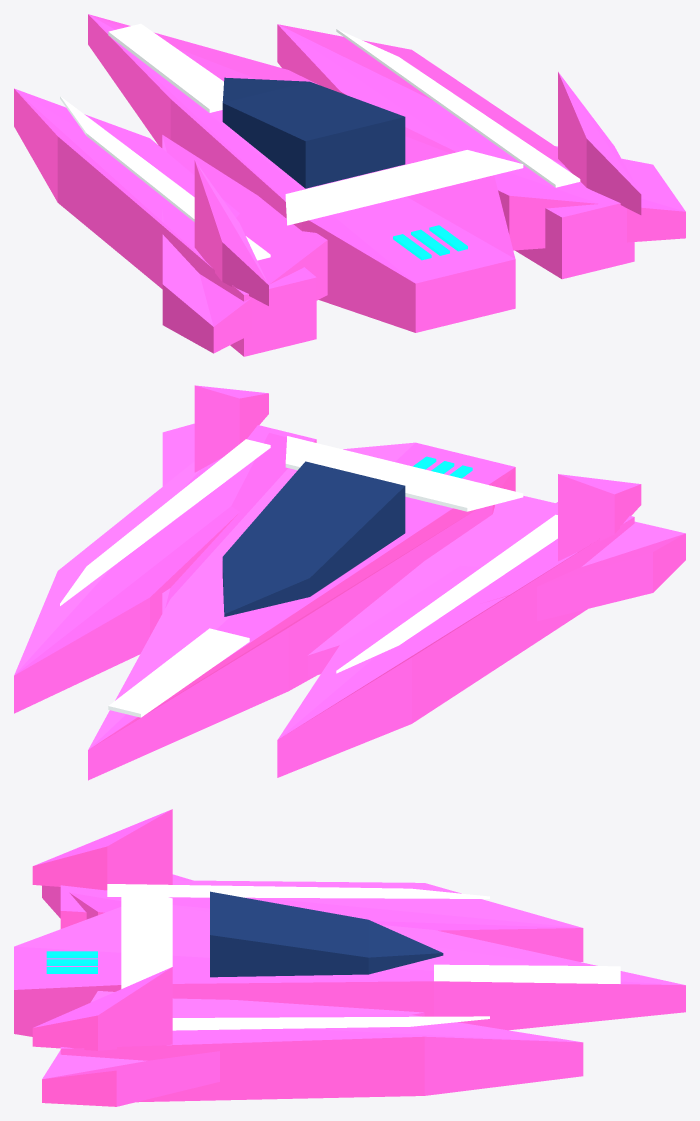
Rendered from hydrofoil-2.glb.
The picture shows the model from 3 angles, top to bottom: view 1: azimuth 30°, elevation 25°; view 2: azimuth 150°, elevation 25°; view 3: azimuth 270°, elevation 25°; orthographic projection. The views are drawn at different scales.
Visible parts, largest first — view 1: BW-01 Split Delta; view 2: BW-01 Split Delta; view 3: BW-01 Split Delta.
Part boxes in pixels (box(x1,y1,x2,y2)): BW-01 Split Delta: box(14, 14, 685, 356); BW-01 Split Delta: box(14, 385, 685, 780); BW-01 Split Delta: box(14, 809, 685, 1106).
Bounding box in the file's own units: 5.4 × 1.55 × 7.2.
